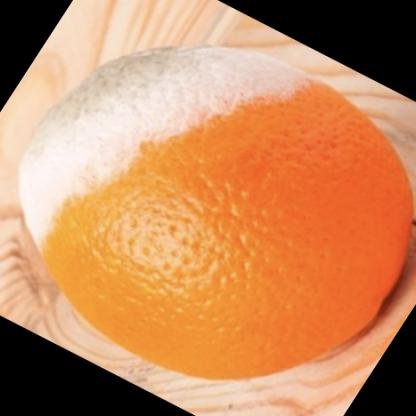rotten: (25, 48, 416, 383)
